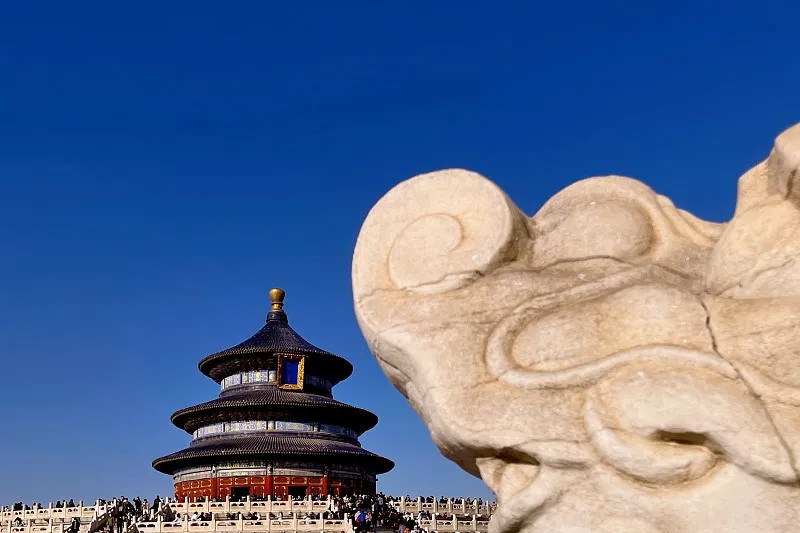Heaven: (151, 288, 397, 499)
